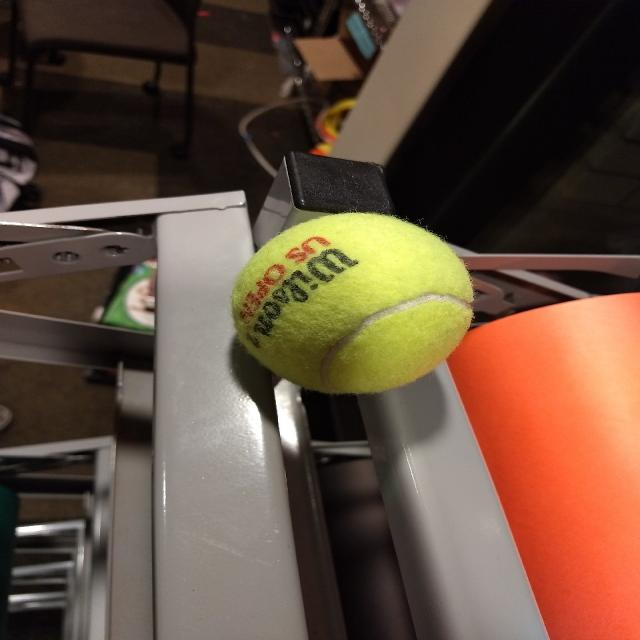Tennis-Ball: (235, 211, 472, 396)
